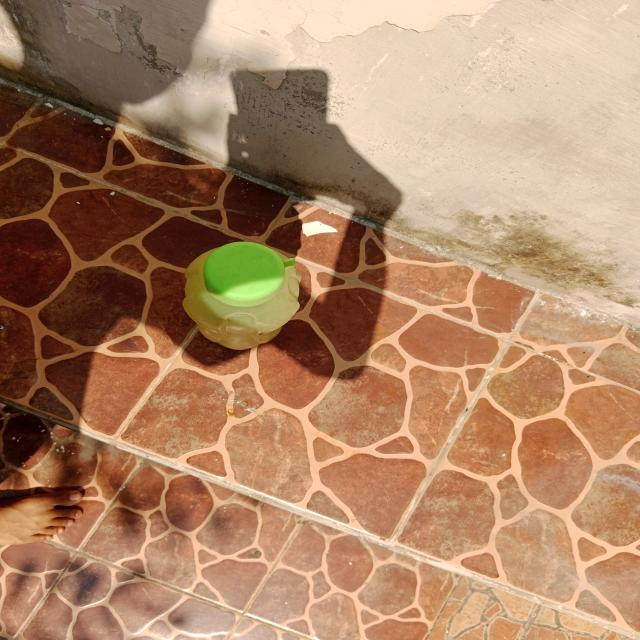botol_minum: (157, 234, 370, 378)
